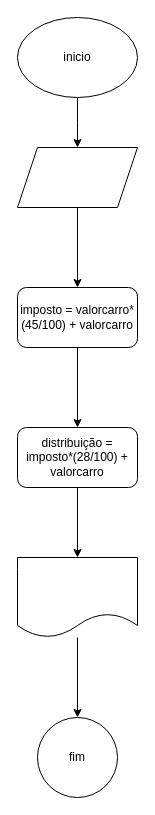
Some shapes in this 155 by 815 pixel diagram are drawn without their labels. Each missing label, with the centre of its shape:
distribuicao: pixel 77 597
valorcarro: pixel 77 177
